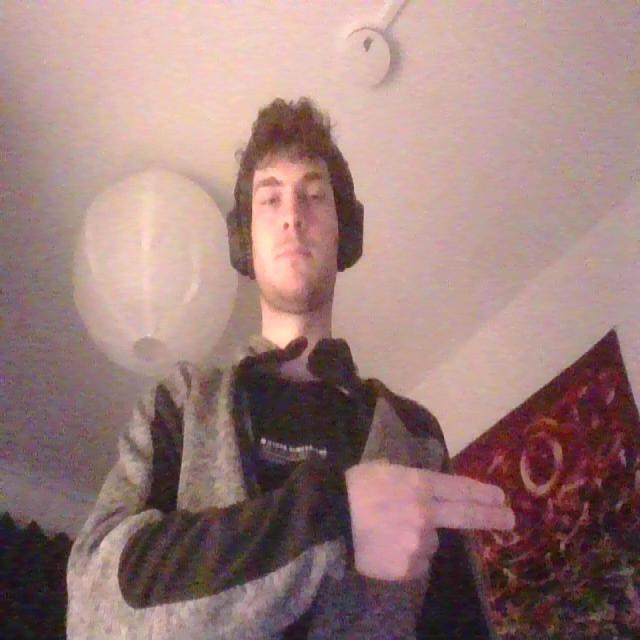right: (345, 452, 519, 590)
